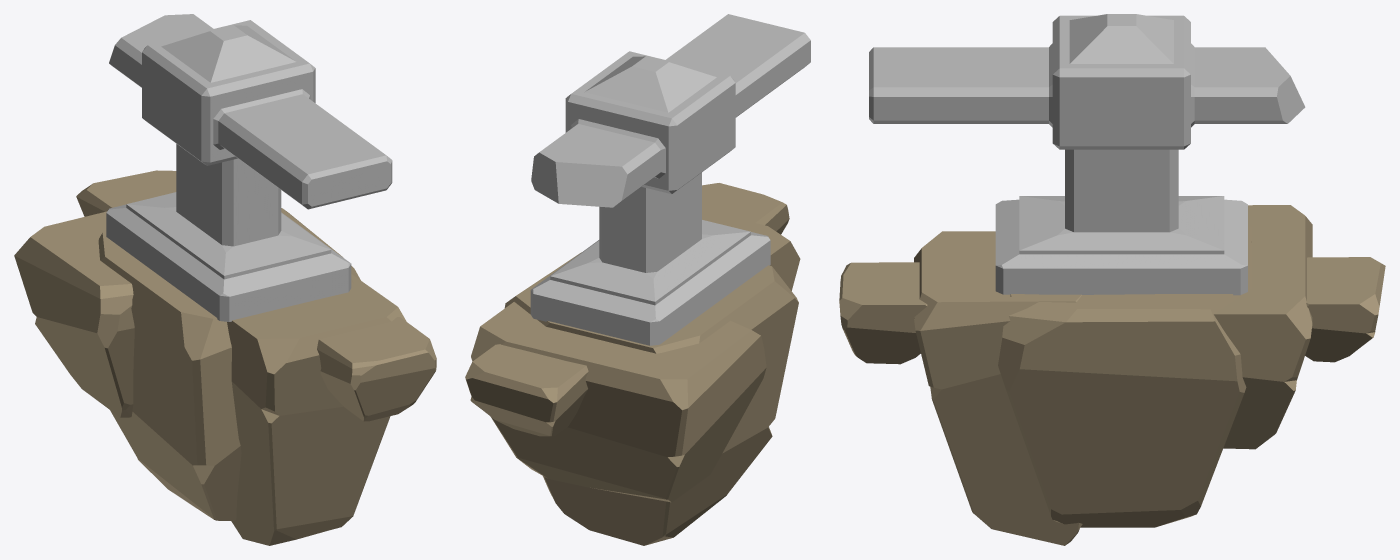
The model's file is LowStoneGuardrail2Broken.fbx.
3 renders of one model, left to right at view 1: azimuth 30°, elevation 25°; view 2: azimuth 150°, elevation 25°; view 3: azimuth 270°, elevation 25°, orthographic. The views are drawn at different scales.
Parts seen in each view (by area): view 1: handrail2broken; view 2: handrail2broken; view 3: handrail2broken.
Part boxes in pixels (box(x1,y1,x2,y2)): handrail2broken: box(14, 14, 436, 545); handrail2broken: box(465, 14, 810, 545); handrail2broken: box(839, 14, 1385, 545).
Size of the model in its own units: 221 by 437 by 433.
